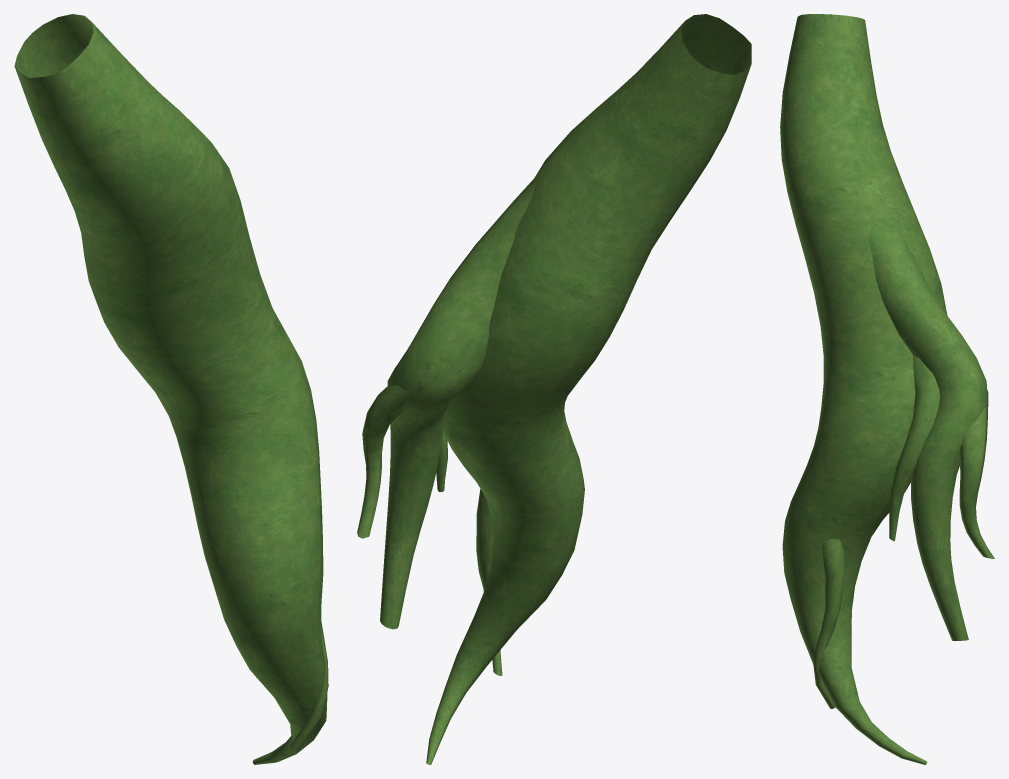
File: SM_ENV_KNFRST_TreeRoot_A.FBX
3 renders of one model, left to right at view 1: azimuth 30°, elevation 25°; view 2: azimuth 150°, elevation 25°; view 3: azimuth 270°, elevation 25°, orthographic. The views are drawn at different scales.
Visible parts, largest first — view 1: SM_ENV_KNFRST_TreeRoot_A; view 2: SM_ENV_KNFRST_TreeRoot_A; view 3: SM_ENV_KNFRST_TreeRoot_A.
Part boxes in pixels (box(x1,y1,x2,y2)): SM_ENV_KNFRST_TreeRoot_A: box(14, 14, 328, 764); SM_ENV_KNFRST_TreeRoot_A: box(357, 14, 751, 764); SM_ENV_KNFRST_TreeRoot_A: box(780, 14, 994, 764).
Bounding box in the file's own units: 1260 × 3020 × 887.
